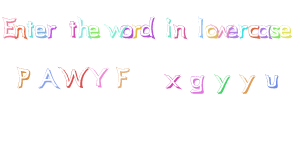A: (36, 66, 60, 93)
E: (1, 15, 16, 44)
F: (111, 65, 135, 91)
P: (11, 63, 34, 93)
W: (59, 63, 89, 91)
Y: (89, 64, 111, 89)
a: (258, 21, 273, 41)
c: (248, 22, 262, 41)
d: (141, 15, 158, 40)
e: (279, 21, 294, 42), (34, 22, 47, 43), (88, 22, 102, 40), (227, 21, 239, 41)
g: (187, 71, 209, 98)
h: (76, 11, 90, 41)
i: (164, 16, 174, 40)
l: (194, 14, 206, 39)
n: (14, 21, 27, 43), (173, 22, 186, 42)
o: (205, 23, 219, 42), (121, 25, 134, 40)
r: (238, 20, 250, 42), (47, 21, 59, 42), (134, 22, 142, 41)
s: (270, 21, 280, 41)
t: (65, 18, 78, 42), (26, 15, 36, 41)
u: (260, 69, 285, 95)
w: (105, 24, 124, 41), (215, 23, 230, 38)
x: (160, 71, 185, 95)
y: (236, 70, 257, 96), (211, 72, 232, 97)
